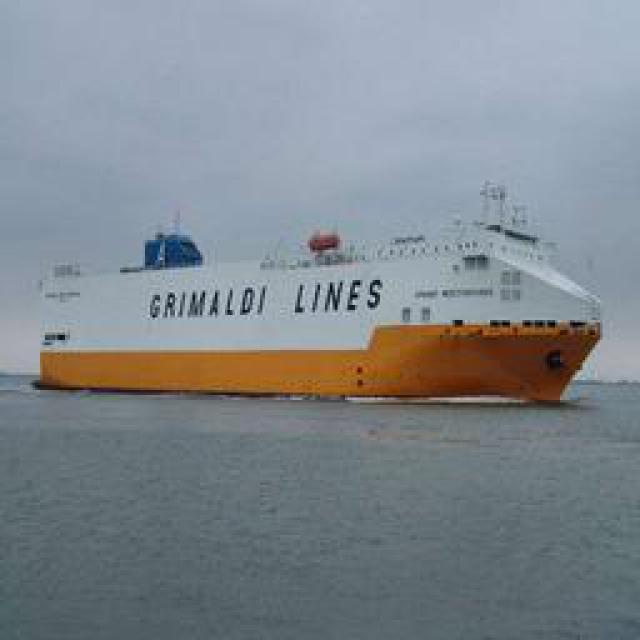Ship: (46, 181, 596, 399)
